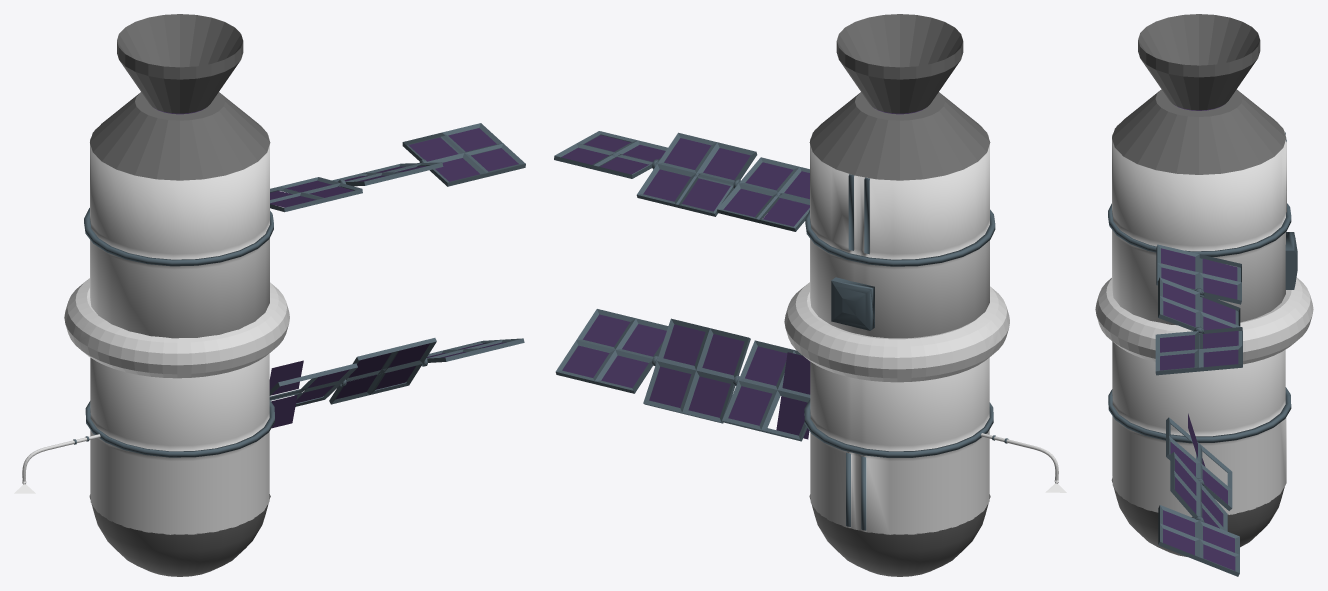
File: iss.glb
3 renders of one model, left to right at view 1: azimuth 30°, elevation 25°; view 2: azimuth 150°, elevation 25°; view 3: azimuth 270°, elevation 25°, orthographic. The views are drawn at different scales.
Visible parts, largest first — view 1: Cylinder, Cylinder.005, Cone, Torus, Cone.001, Sphere, Cube.002, Cube.004, Cube, Cube.003, Cube.001, Cube.005 (+6 smaller); view 2: Cylinder.005, Cylinder, Torus, Cone, Cone.001, Sphere, Cube.004, Cube.001, Cube.005, Cube.003, Cube, Cube.006 (+21 smaller); view 3: Cylinder.005, Cylinder, Cone, Cone.001, Torus, Sphere, Cube.002, Cube.005, Cube, Cube.001, Cube.003, Cube.004 (+21 smaller).
Boxes of the visible parts, <box> form: Cylinder: <box>84,125,273,338</box>; Cylinder.005: <box>85,353,274,534</box>; Cone: <box>90,92,270,180</box>; Torus: <box>64,278,289,378</box>; Cone.001: <box>117,14,243,113</box>; Sphere: <box>89,494,270,576</box>; Cube.002: <box>402,123,525,186</box>; Cube.004: <box>329,338,436,404</box>; Cube: <box>270,177,362,212</box>; Cube.003: <box>269,363,357,406</box>; Cube.001: <box>332,162,443,186</box>; Cube.005: <box>427,338,524,362</box>; Cylinder.005: <box>804,357,993,534</box>; Cylinder: <box>805,125,995,338</box>; Torus: <box>784,282,1009,382</box>; Cone: <box>809,93,990,180</box>; Cone.001: <box>836,14,963,113</box>; Sphere: <box>809,494,990,576</box>; Cube.004: <box>643,318,750,423</box>; Cube.001: <box>636,132,757,216</box>; Cube.005: <box>555,309,668,393</box>; Cube.003: <box>722,340,810,441</box>; Cube: <box>717,157,809,231</box>; Cube.006: <box>831,277,874,330</box>; Cylinder.005: <box>1108,341,1291,516</box>; Cylinder: <box>1108,121,1291,325</box>; Cone: <box>1112,90,1286,174</box>; Cone.001: <box>1138,14,1260,110</box>; Torus: <box>1095,277,1313,364</box>; Sphere: <box>1111,477,1284,556</box>; Cube.002: <box>1155,327,1242,375</box>; Cube.005: <box>1158,505,1239,576</box>; Cube: <box>1156,244,1241,304</box>; Cube.001: <box>1158,277,1240,331</box>; Cube.003: <box>1166,417,1232,510</box>; Cube.004: <box>1170,452,1227,531</box>.
Size of the model in its own units: 6.26 by 6.45 by 2.5.
